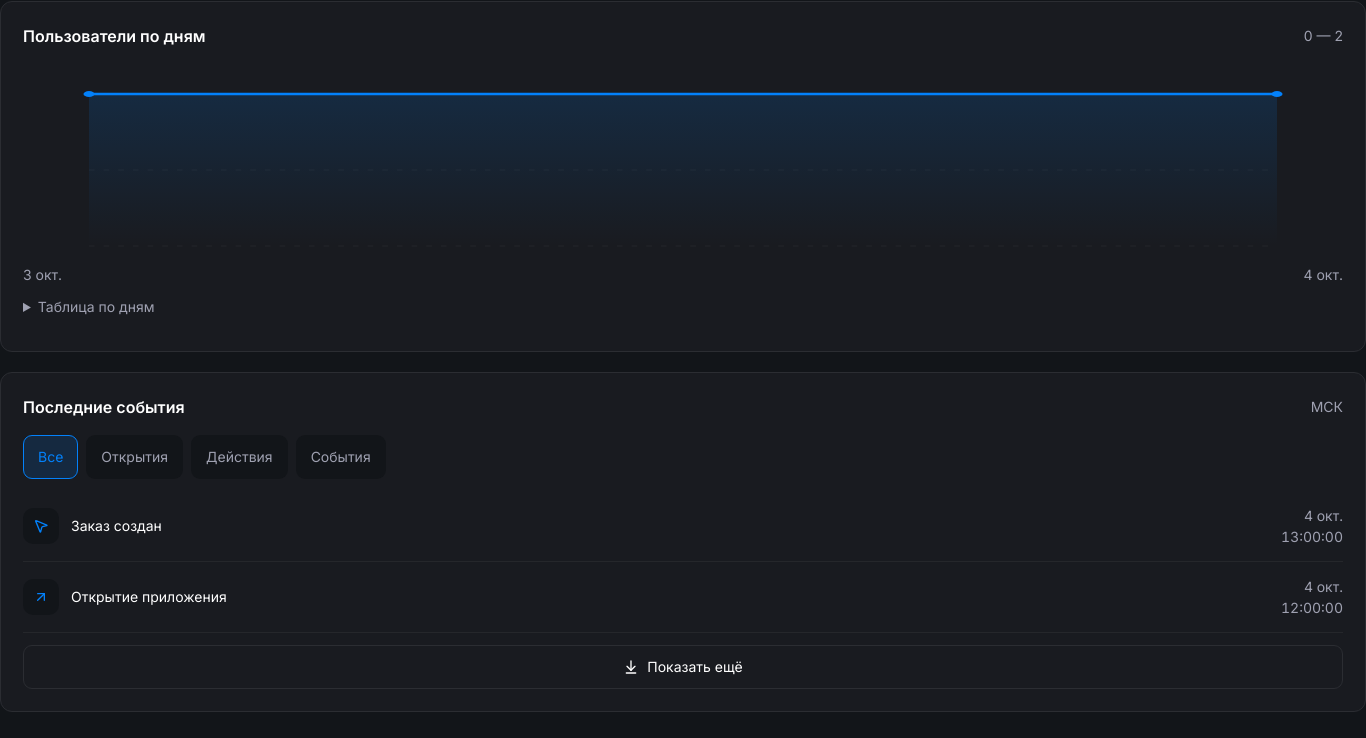
sorts feed newest first, uses Moscow time, pages with opaque cursor and labels legacy generically
The width and height of the screenshot is (1366, 738).
(page scrolled)
Expected: the list item "Заказ создан 4 окт.13:00:00" is shown, [23,491,1343,562]
Step 1. Click the button with class "max-analytics-more" → [683, 667], box [23,645,1343,689]
Wait 30 ms
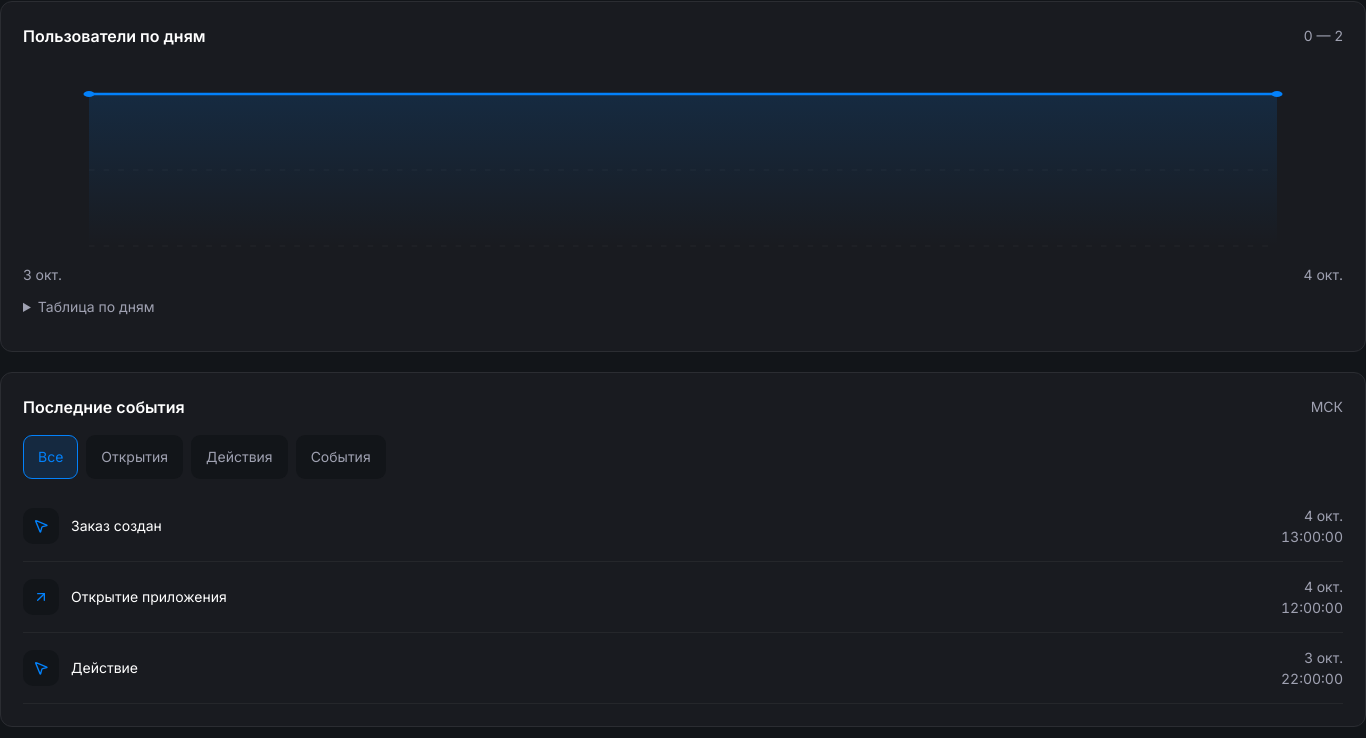
Expected: the text "Заказ" is not shown
Expected: the list item "Действие 3 окт.22:00:00" is shown, [23,633,1343,704]
Expected: the number of list items is 3, [23,491,1343,562]; [23,562,1343,633]; [23,633,1343,704]
